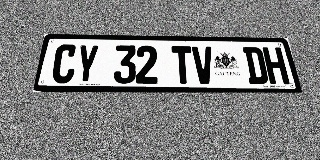2: (136, 45, 157, 84)
3: (113, 45, 136, 84)
C: (50, 44, 78, 83)
D: (243, 47, 269, 84)
H: (262, 47, 290, 84)
T: (171, 46, 194, 84)
V: (192, 46, 215, 84)
Y: (74, 45, 99, 84)
